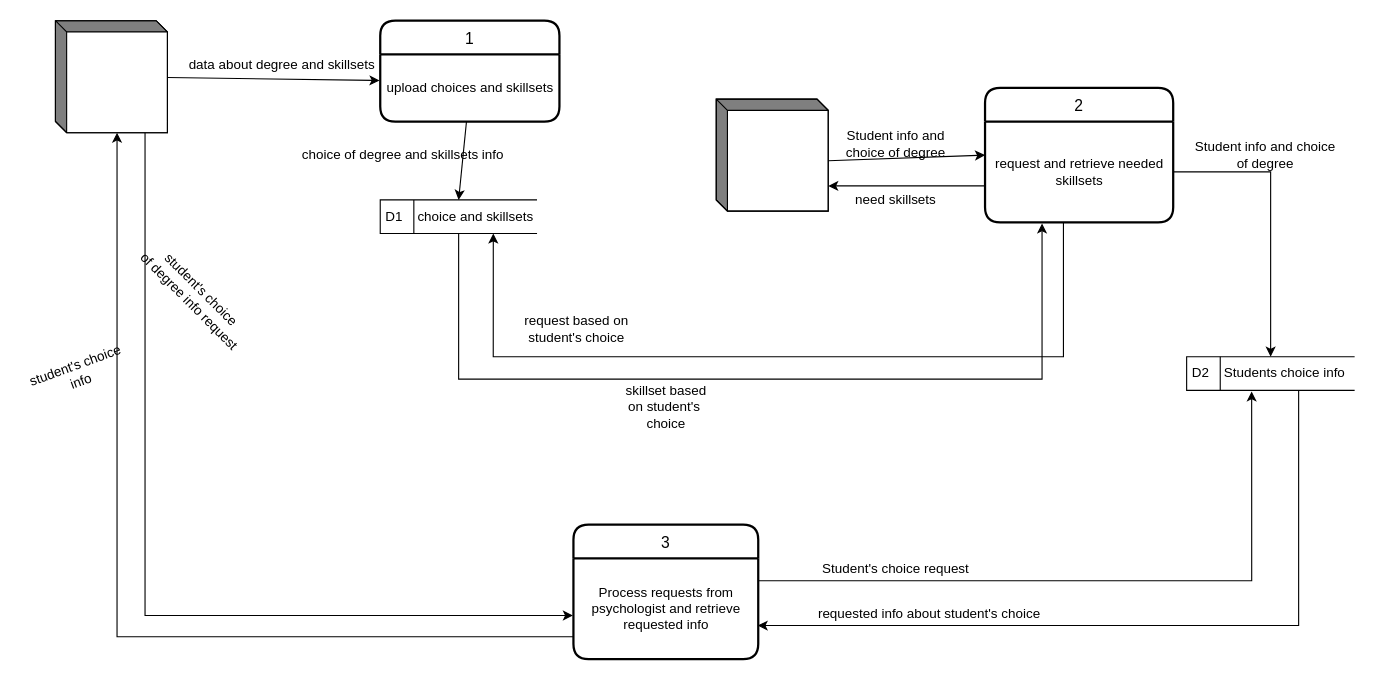
The diagram is 1374 pixels wide and 679 high, and some of its shapes have lost their labels. Here are the shapes that lost their labels. From the top down, the box of each, then its label:
(54, 20, 167, 133): Psychologist
(715, 98, 828, 211): Student
